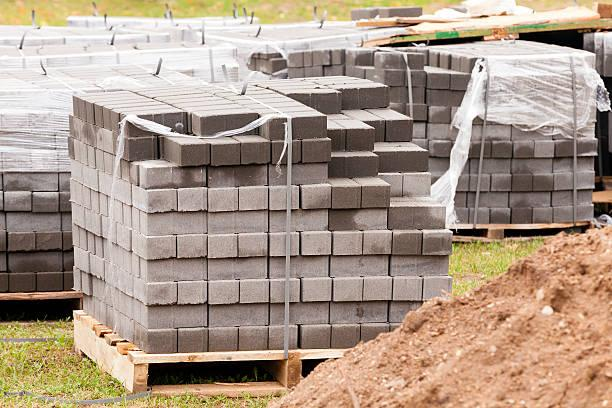Bricks: (92, 279, 139, 325), (259, 109, 328, 139), (120, 107, 186, 137), (139, 159, 205, 187), (373, 143, 429, 174), (189, 110, 259, 134), (160, 133, 209, 167), (141, 305, 208, 328), (105, 304, 139, 349), (367, 109, 412, 141), (408, 195, 448, 231), (140, 213, 207, 234), (329, 152, 379, 180), (130, 231, 178, 260), (346, 107, 387, 140), (141, 260, 208, 280), (132, 187, 179, 215), (210, 212, 266, 235), (204, 166, 267, 185), (332, 257, 391, 277), (231, 133, 269, 164), (208, 305, 270, 324), (112, 133, 155, 160), (269, 164, 327, 184), (209, 259, 267, 279), (269, 213, 330, 232), (331, 210, 388, 230), (270, 258, 330, 277), (339, 87, 390, 109), (392, 258, 451, 277), (8, 253, 64, 273), (290, 93, 343, 114), (135, 280, 177, 306), (103, 265, 136, 297), (331, 305, 389, 323), (271, 305, 327, 323), (68, 160, 101, 189), (100, 174, 132, 203), (4, 173, 57, 190), (9, 213, 60, 230), (206, 135, 238, 162), (389, 195, 415, 228), (378, 171, 405, 200), (302, 138, 333, 163), (330, 230, 360, 255), (239, 279, 269, 304), (511, 191, 554, 208), (333, 182, 360, 209), (300, 232, 330, 256), (377, 53, 422, 69), (87, 127, 114, 153), (178, 279, 205, 305), (141, 331, 176, 351), (208, 283, 241, 304), (402, 173, 432, 196), (274, 140, 302, 164), (272, 278, 300, 302), (178, 187, 207, 210), (173, 98, 233, 109), (185, 102, 245, 113), (302, 278, 332, 300), (301, 183, 327, 208), (421, 230, 446, 256), (273, 185, 300, 209), (364, 277, 391, 301), (429, 157, 467, 174), (394, 230, 422, 253), (114, 103, 171, 114), (271, 232, 298, 255), (179, 329, 206, 352), (512, 159, 553, 174), (552, 174, 595, 188), (363, 230, 388, 254), (332, 279, 362, 299), (241, 326, 267, 349), (240, 234, 267, 256), (394, 278, 421, 300), (557, 139, 594, 155), (210, 190, 238, 211), (301, 326, 329, 347), (84, 91, 142, 101), (346, 129, 375, 149), (240, 188, 267, 209), (253, 105, 316, 114), (106, 99, 162, 109), (8, 272, 36, 292), (178, 236, 207, 255), (142, 87, 197, 97), (156, 91, 211, 101), (272, 327, 297, 349), (211, 236, 237, 257), (211, 326, 237, 347), (368, 69, 402, 85), (95, 95, 149, 105), (66, 119, 88, 143), (473, 126, 510, 140), (75, 90, 132, 99), (36, 270, 61, 290), (233, 97, 295, 105), (324, 83, 386, 91), (10, 231, 36, 250), (472, 159, 510, 172), (557, 206, 598, 218), (245, 101, 306, 109), (335, 118, 373, 130), (333, 327, 357, 346), (6, 191, 30, 210), (555, 191, 593, 203), (470, 194, 508, 206), (430, 91, 465, 104), (426, 124, 458, 138), (556, 159, 593, 171), (363, 187, 387, 205), (279, 87, 340, 94), (33, 193, 55, 212), (226, 92, 284, 99), (355, 177, 391, 188), (90, 256, 106, 280), (490, 171, 511, 189), (424, 280, 449, 295), (37, 232, 60, 248), (405, 105, 429, 120), (470, 171, 488, 191), (510, 176, 534, 191), (428, 139, 452, 154), (329, 129, 346, 150), (71, 183, 88, 204), (429, 105, 450, 122), (511, 140, 533, 156), (534, 204, 551, 224), (75, 245, 88, 271), (86, 211, 101, 233), (512, 208, 530, 225), (453, 71, 470, 88), (392, 88, 409, 105), (538, 140, 555, 157), (470, 207, 487, 224), (429, 72, 448, 87), (81, 296, 95, 316), (116, 224, 128, 247), (102, 217, 115, 238), (492, 142, 512, 155), (410, 86, 426, 102), (536, 175, 553, 190), (81, 274, 93, 295), (111, 109, 121, 133), (492, 208, 508, 223), (96, 306, 108, 325), (130, 205, 139, 230), (409, 72, 425, 86), (73, 267, 81, 294), (471, 142, 488, 154), (120, 250, 130, 269), (95, 105, 104, 126), (414, 122, 425, 139), (90, 190, 99, 210), (114, 200, 122, 222), (131, 255, 140, 274), (122, 204, 130, 225), (327, 119, 342, 130), (80, 100, 88, 120), (87, 233, 94, 255), (111, 244, 118, 266), (93, 300, 100, 322), (74, 208, 84, 223), (108, 199, 115, 220), (97, 150, 103, 174), (106, 153, 112, 177), (121, 160, 128, 180), (74, 141, 80, 164), (113, 157, 120, 176), (104, 242, 111, 261), (88, 101, 94, 123), (81, 144, 87, 166), (89, 146, 95, 168), (102, 194, 108, 215), (80, 228, 87, 246), (68, 139, 74, 159), (73, 97, 79, 116), (131, 163, 137, 182), (73, 224, 78, 245), (97, 237, 101, 256), (106, 107, 108, 133)
